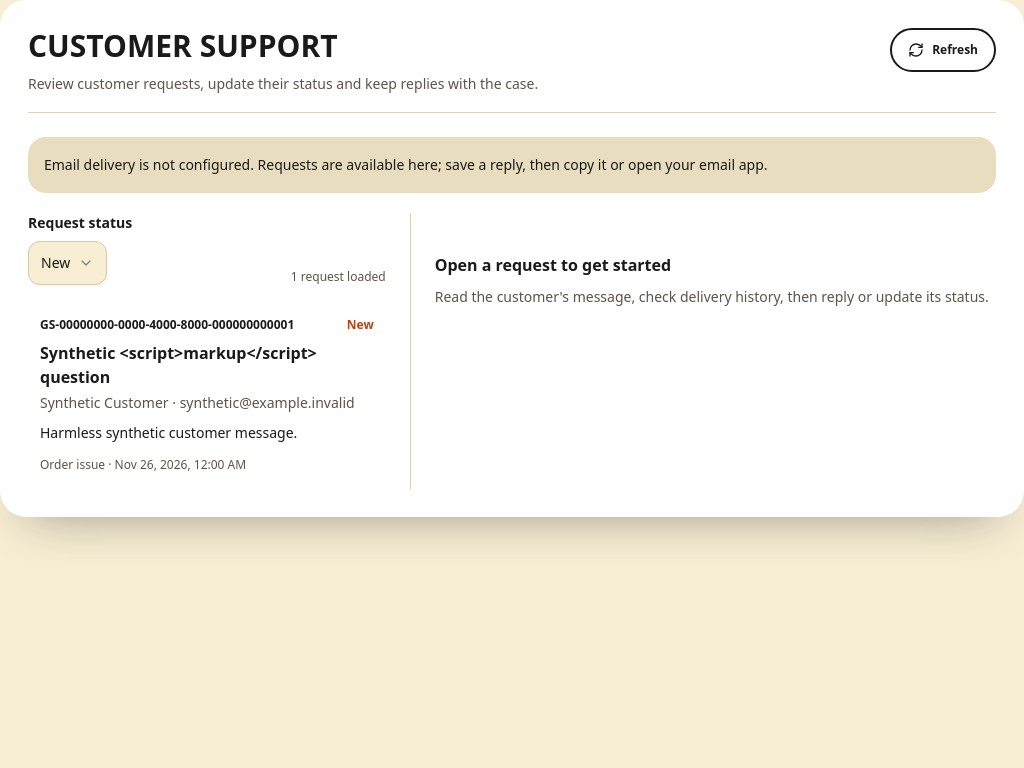
Test case: Administrative support UI › preserves a failed reply's identifier/message and reports saved-but-unsent truthfully
Click the button with aria-label "Open GS-".
click(207, 395)  # box [28,301,386,489]
(page scrolled)
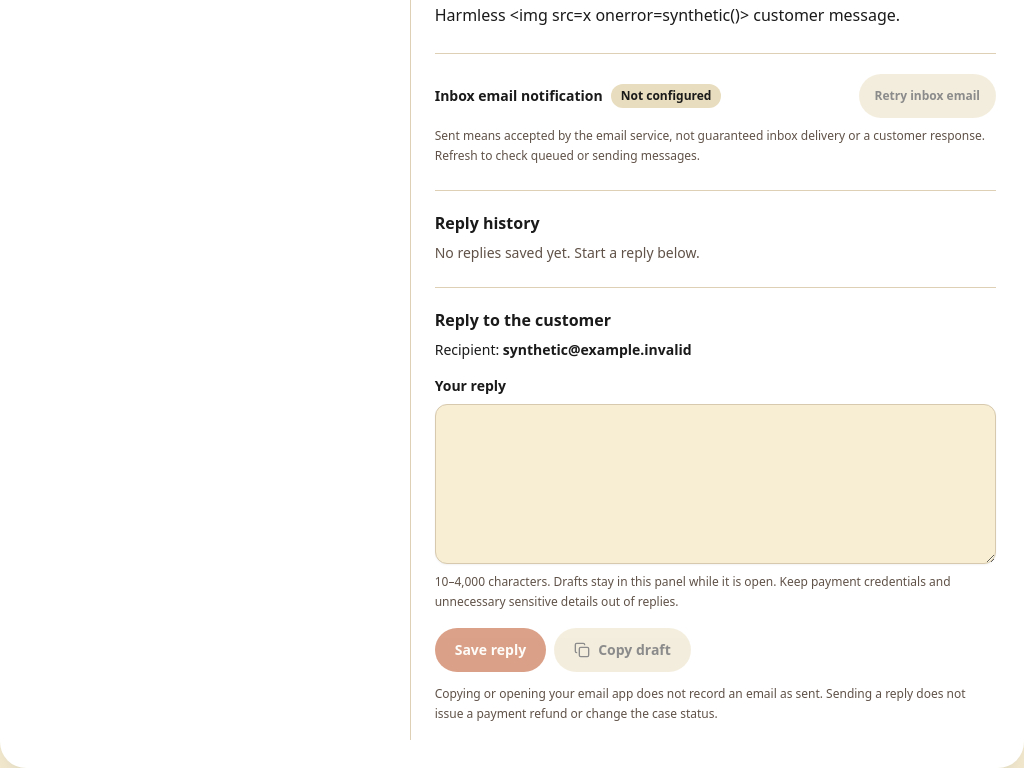
expect the text box labelled "Your reply" is shown: met
Type "A harmless synthetic staff reply." into the text box labelled "Your reply".
click(715, 484); type("A harmless synthetic staff reply.")  # box [435,404,996,564]
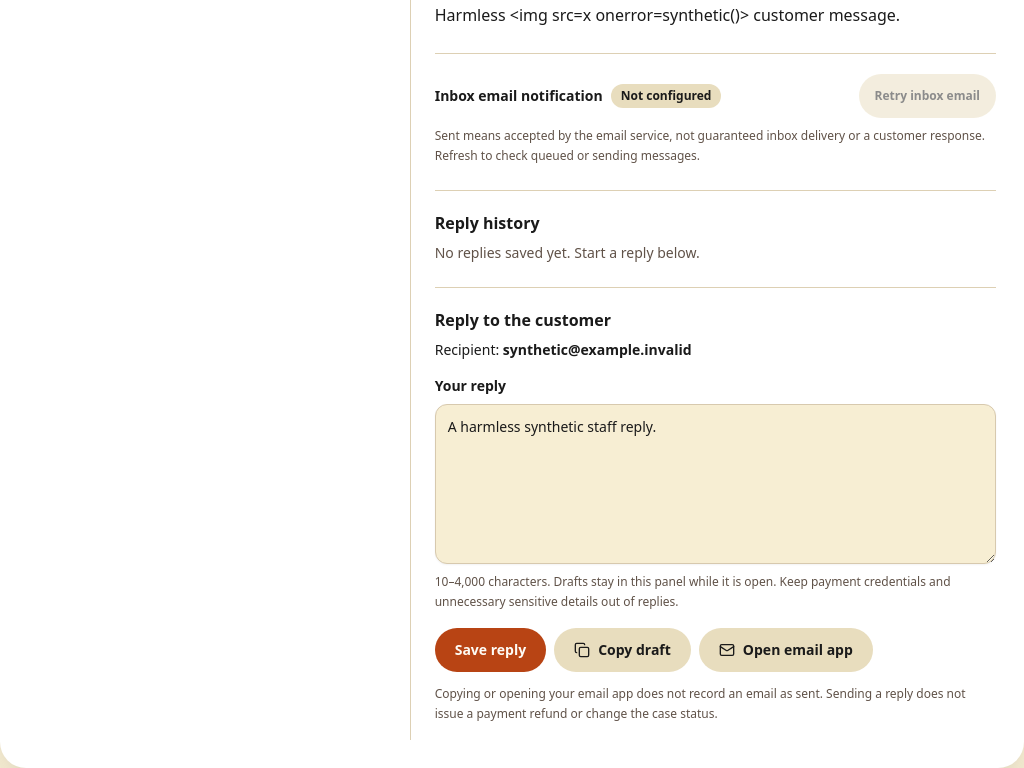
Click the button "Save reply".
click(490, 650)  # box [435,628,546,672]
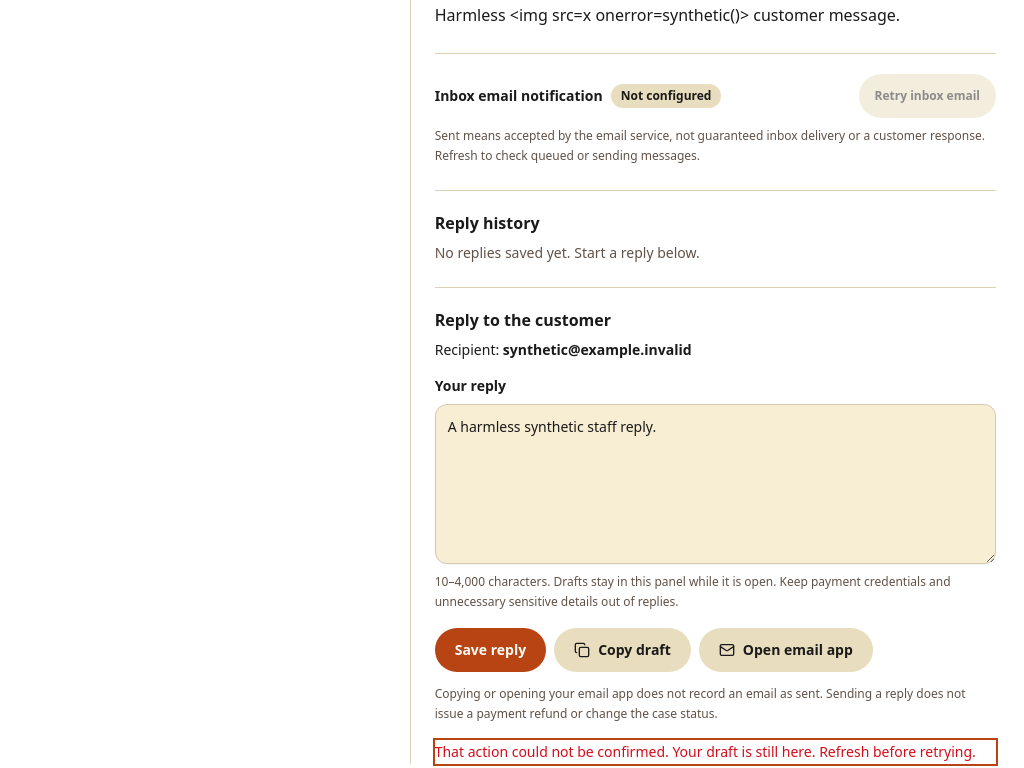
expect the message shows "Your draft is still here": met, box [435,742,976,761]
Click the button "Save reply".
click(490, 650)  # box [435,628,546,672]
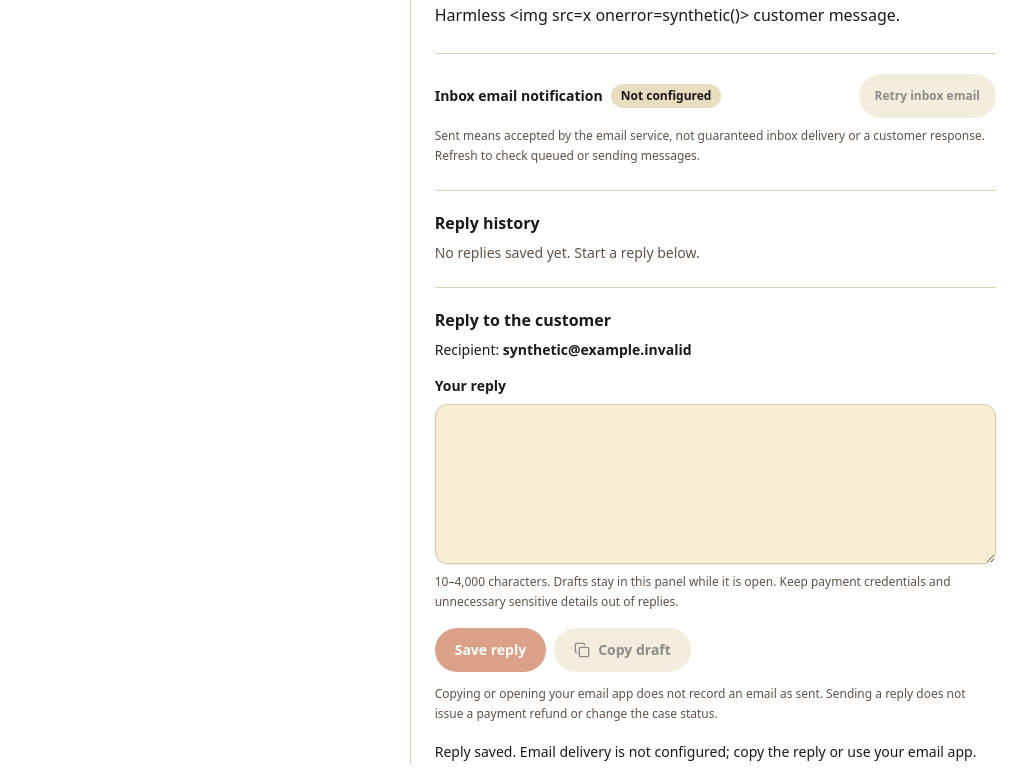
expect the text "Reply saved. Email delivery is not configured" is shown: met, box [435,742,976,761]
